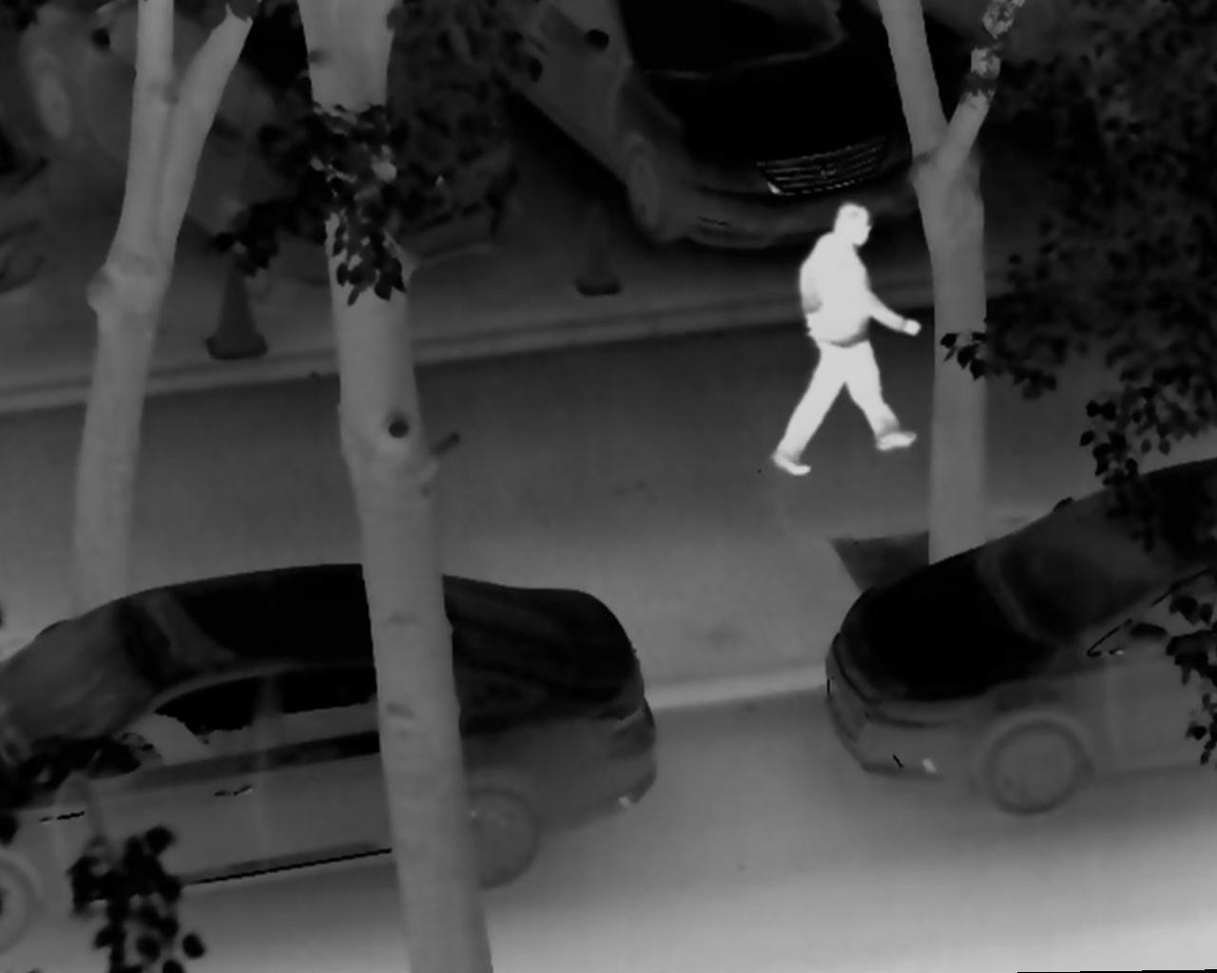person: (757, 193, 933, 474)
